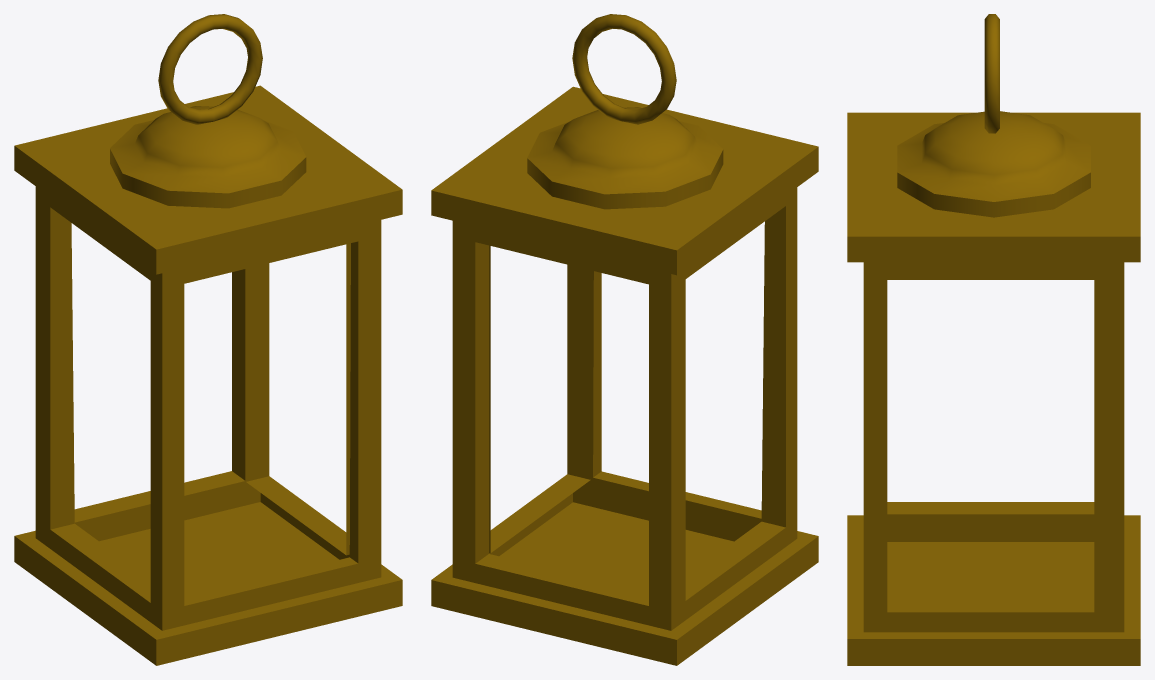
File: Lamp_06.fbx
3 views of the same model, side by side, from view 1: azimuth 30°, elevation 25°; view 2: azimuth 150°, elevation 25°; view 3: azimuth 270°, elevation 25° (orthographic). The views are drawn at different scales.
Parts seen in each view (by area): view 1: Lamp_06; view 2: Lamp_06; view 3: Lamp_06.
Part boxes in pixels (x1,y1,x2,y2): Lamp_06: [14, 14, 402, 665]; Lamp_06: [431, 14, 818, 665]; Lamp_06: [847, 14, 1140, 665].
Bounding box in the file's own units: 27 × 59.51 × 27.
